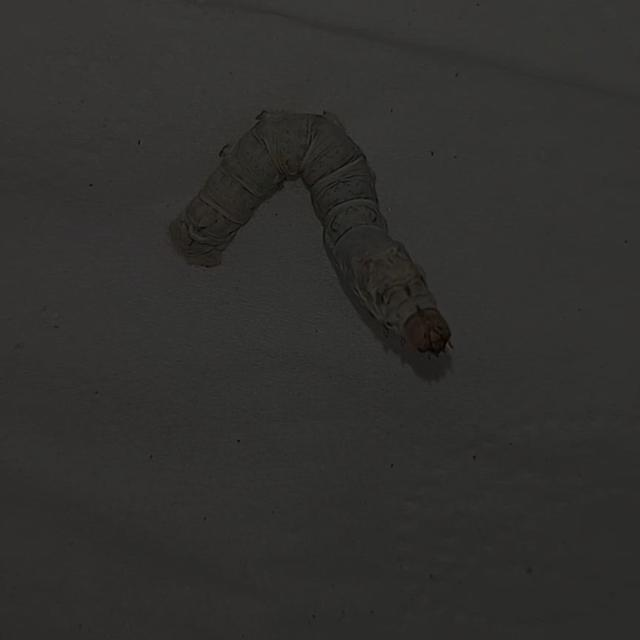Healthy: (152, 90, 460, 375)
